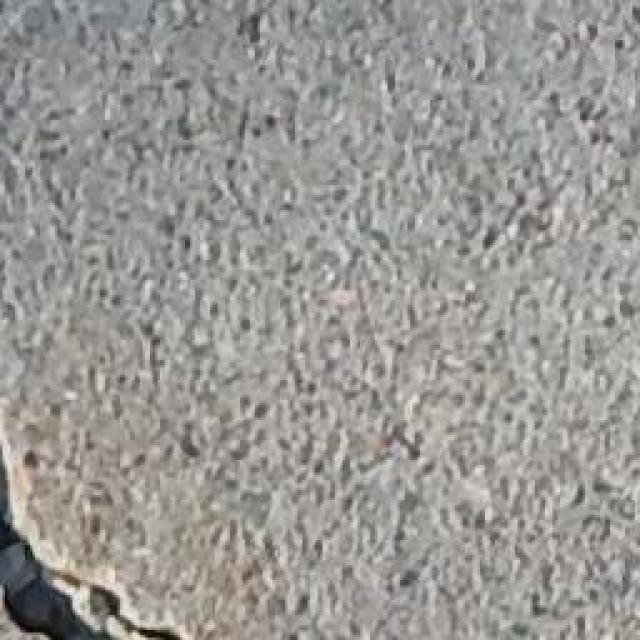concrete-crack: (0, 439, 205, 640)
